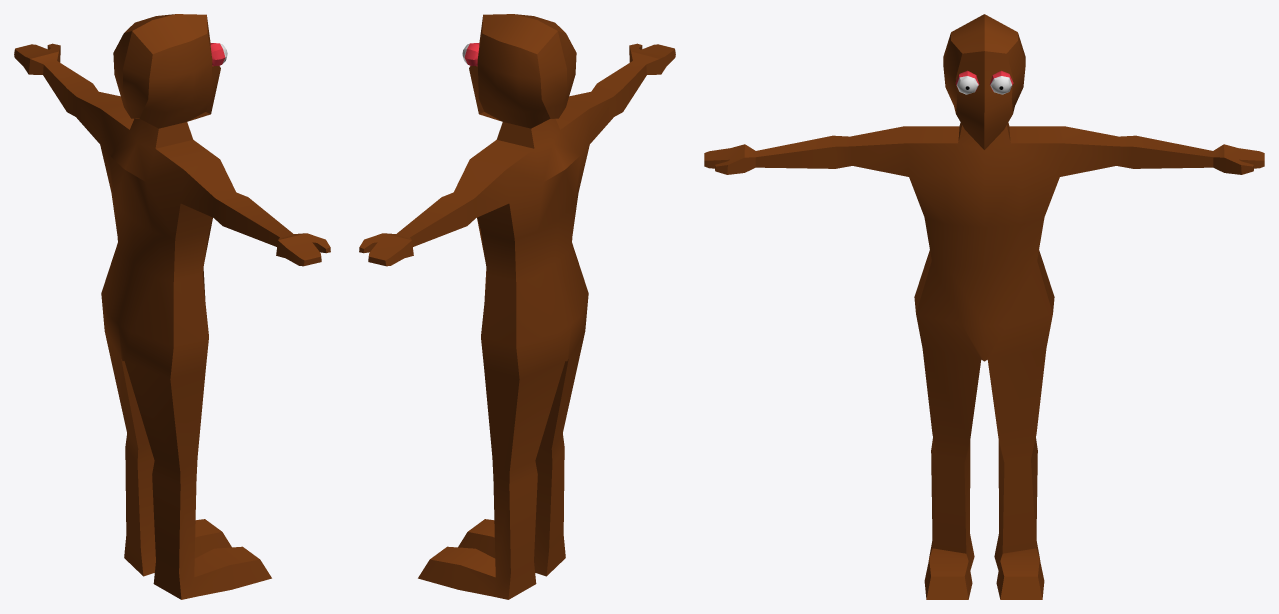
Rendered from Character_01.fbx.
3 renders of one model, left to right at view 1: azimuth 30°, elevation 25°; view 2: azimuth 150°, elevation 25°; view 3: azimuth 270°, elevation 25°, orthographic. The views are drawn at different scales.
Visible parts, largest first — view 1: P_Personnage_01; view 2: P_Personnage_01; view 3: P_Personnage_01.
Boxes of the visible parts, x1,y1,x2,y2 form: P_Personnage_01: [14, 14, 330, 599]; P_Personnage_01: [359, 14, 675, 599]; P_Personnage_01: [704, 14, 1264, 599].
Bounding box in the file's own units: 275 × 1187 × 1115.
